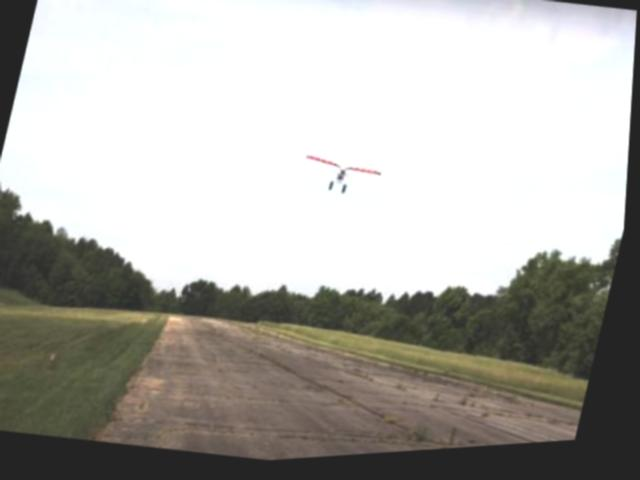uav: (294, 146, 393, 216)
